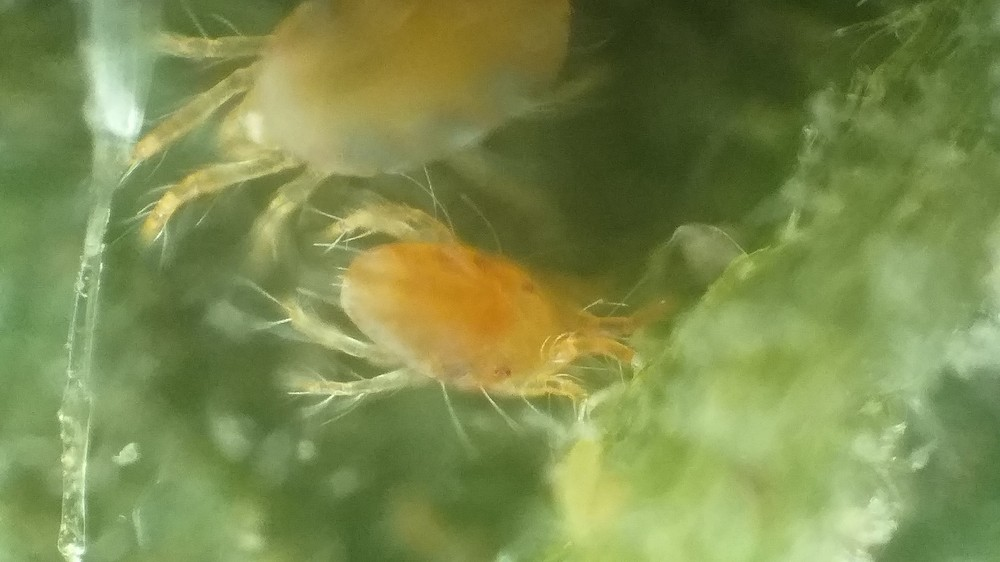Aracnido Rojo: (113, 4, 684, 246), (285, 199, 704, 448)
